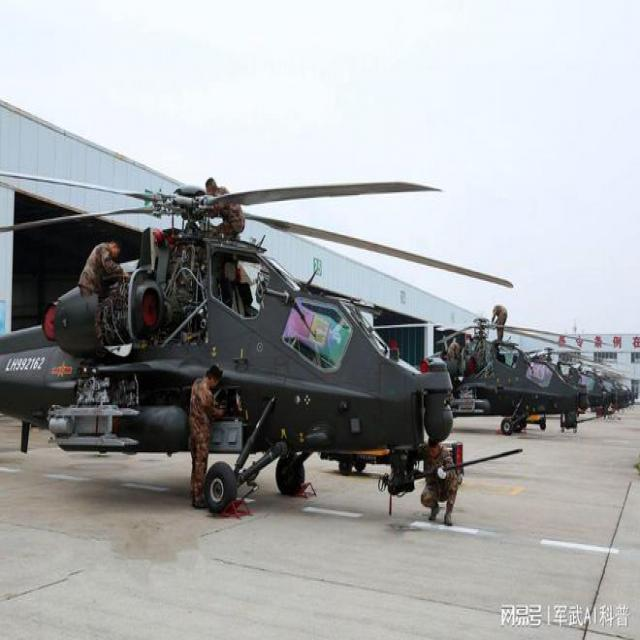MIL_HELO: (0, 148, 514, 520), (378, 286, 579, 447)
